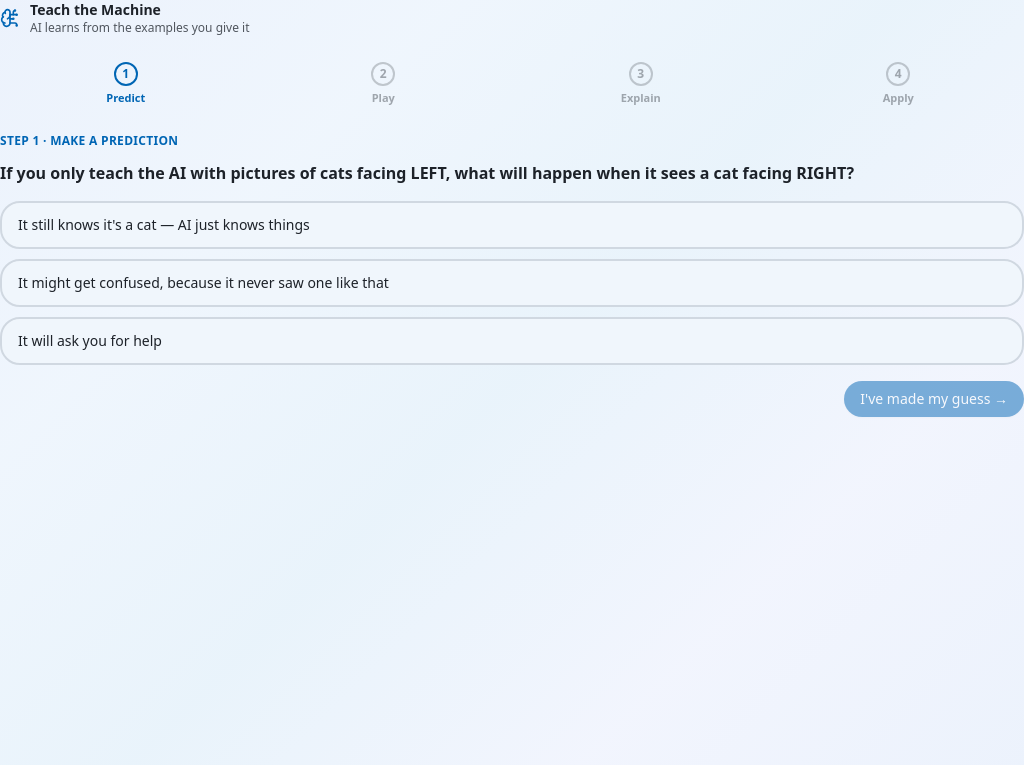
it: ConceptLabHost cohorts › standalone context never gets the baseline arm, even with the experiment on
Click the button "It might get confused, because it never saw one like that" at (203,282), box [0,258,1023,306]
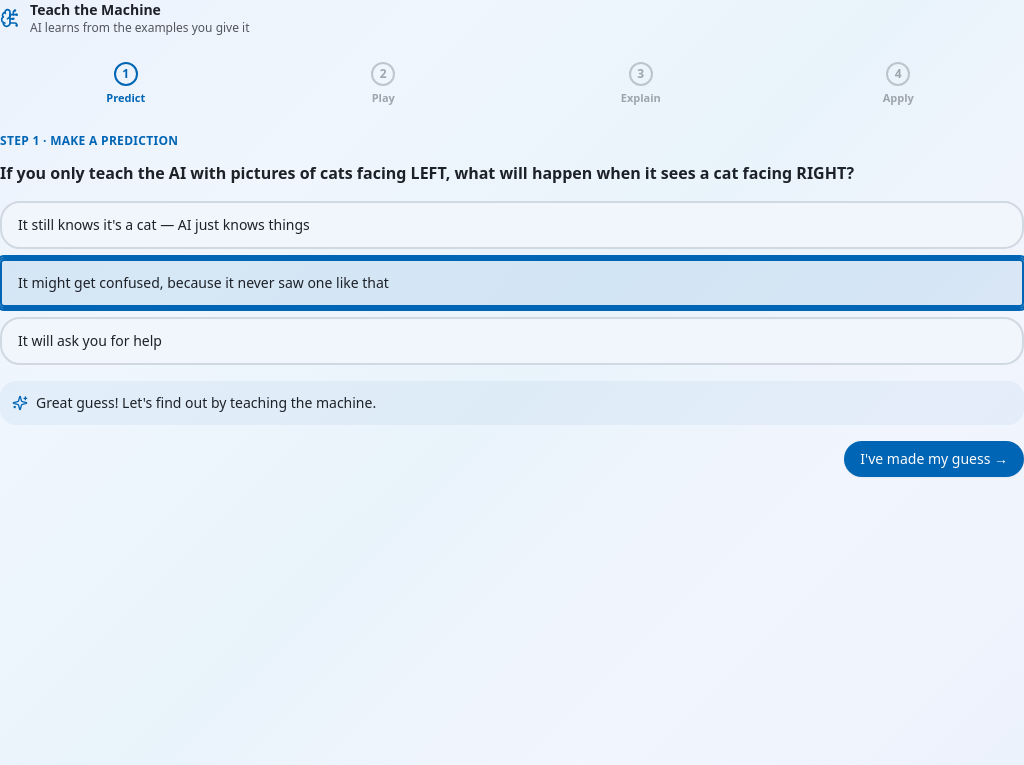
Click the button "I've made my guess →" at (934,458), box [844,440,1023,476]
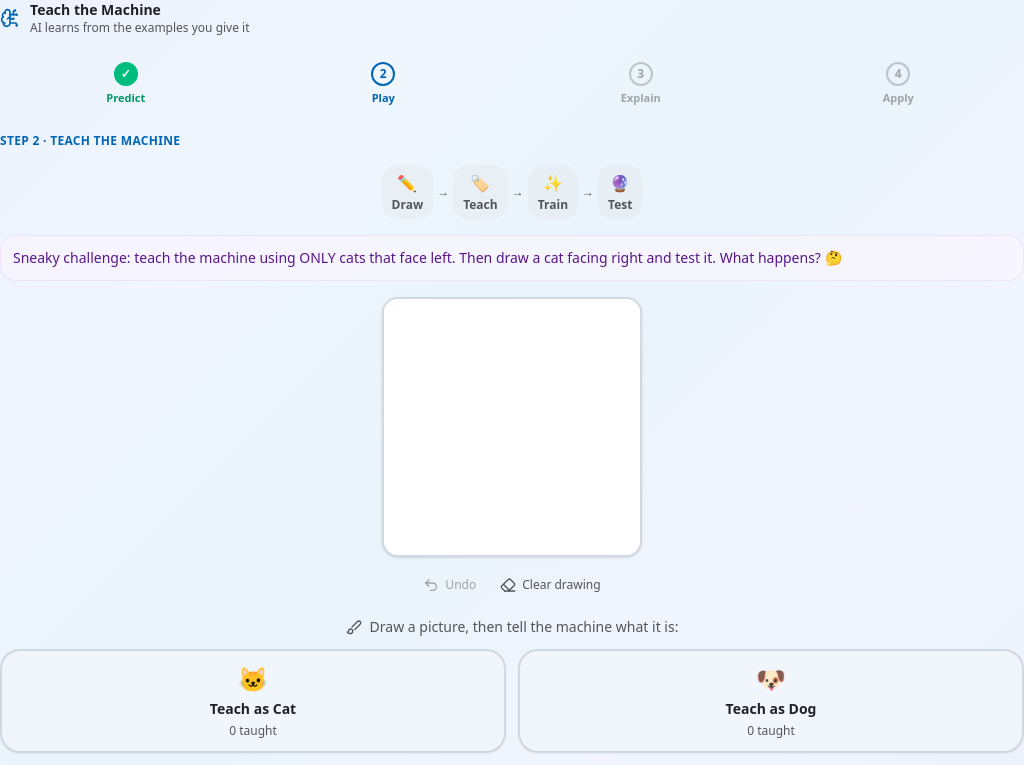
Result: the button "🐱 Teach as Cat 0 taught" is shown at [0,648,506,752]
